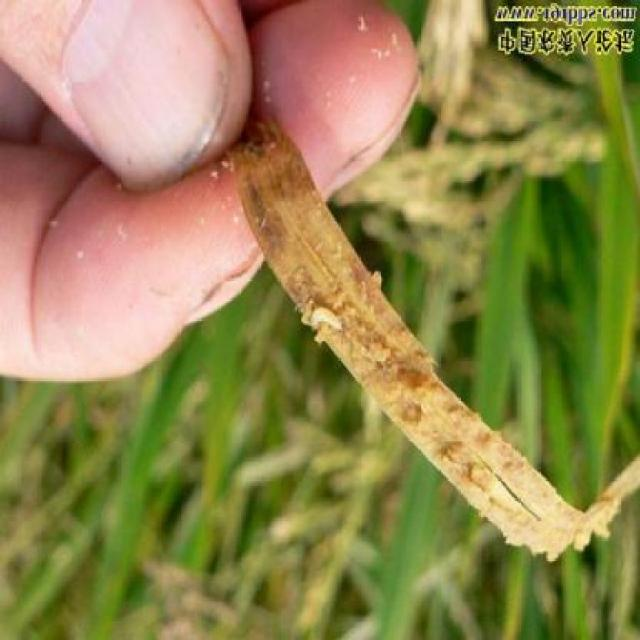whorl-maggot: (308, 300, 349, 337)
